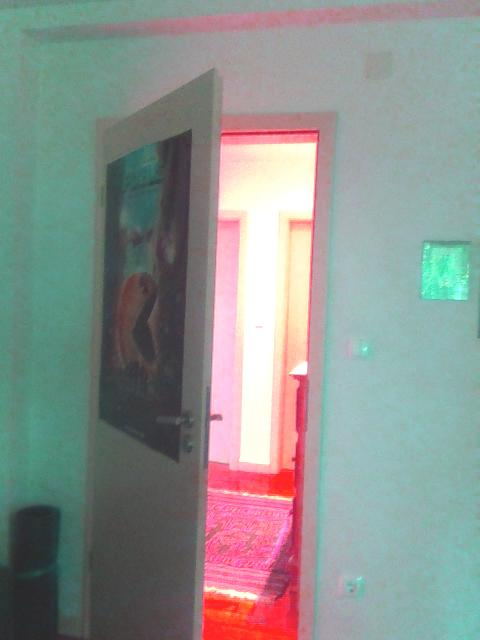semi_door: (84, 60, 338, 639)
